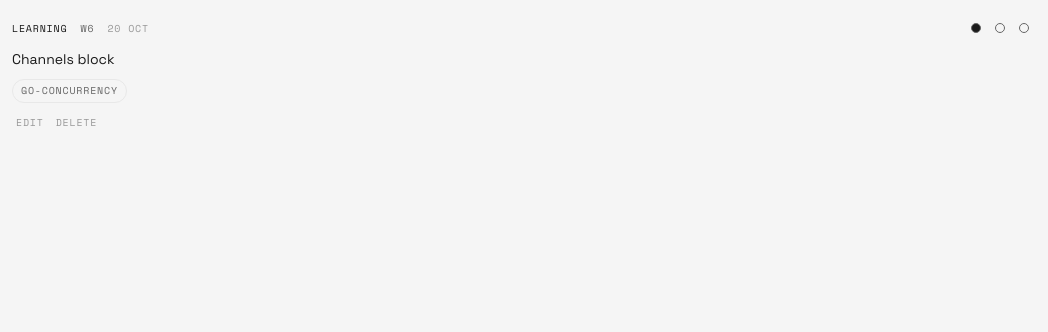
Test case: NoteCard › swaps to the composer on EDIT
This screenshot has width=1048, height=332.
Click the button "EDIT" at (30, 123), box [12,111,48,135]
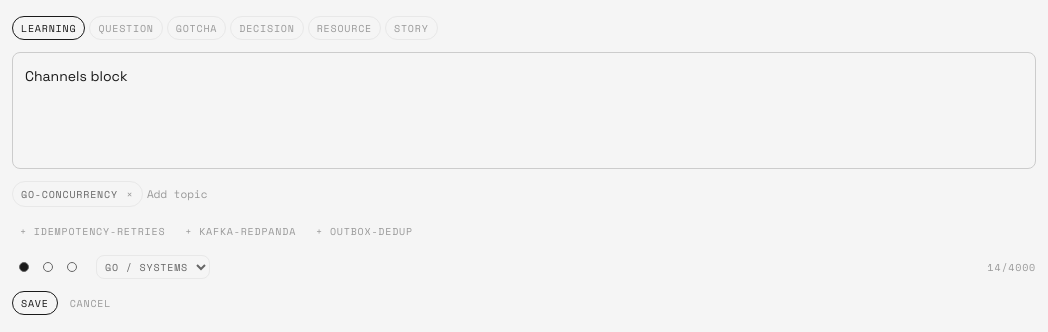
Now the text box named "Note" holds "Channels block", box [12,52,1036,169]
